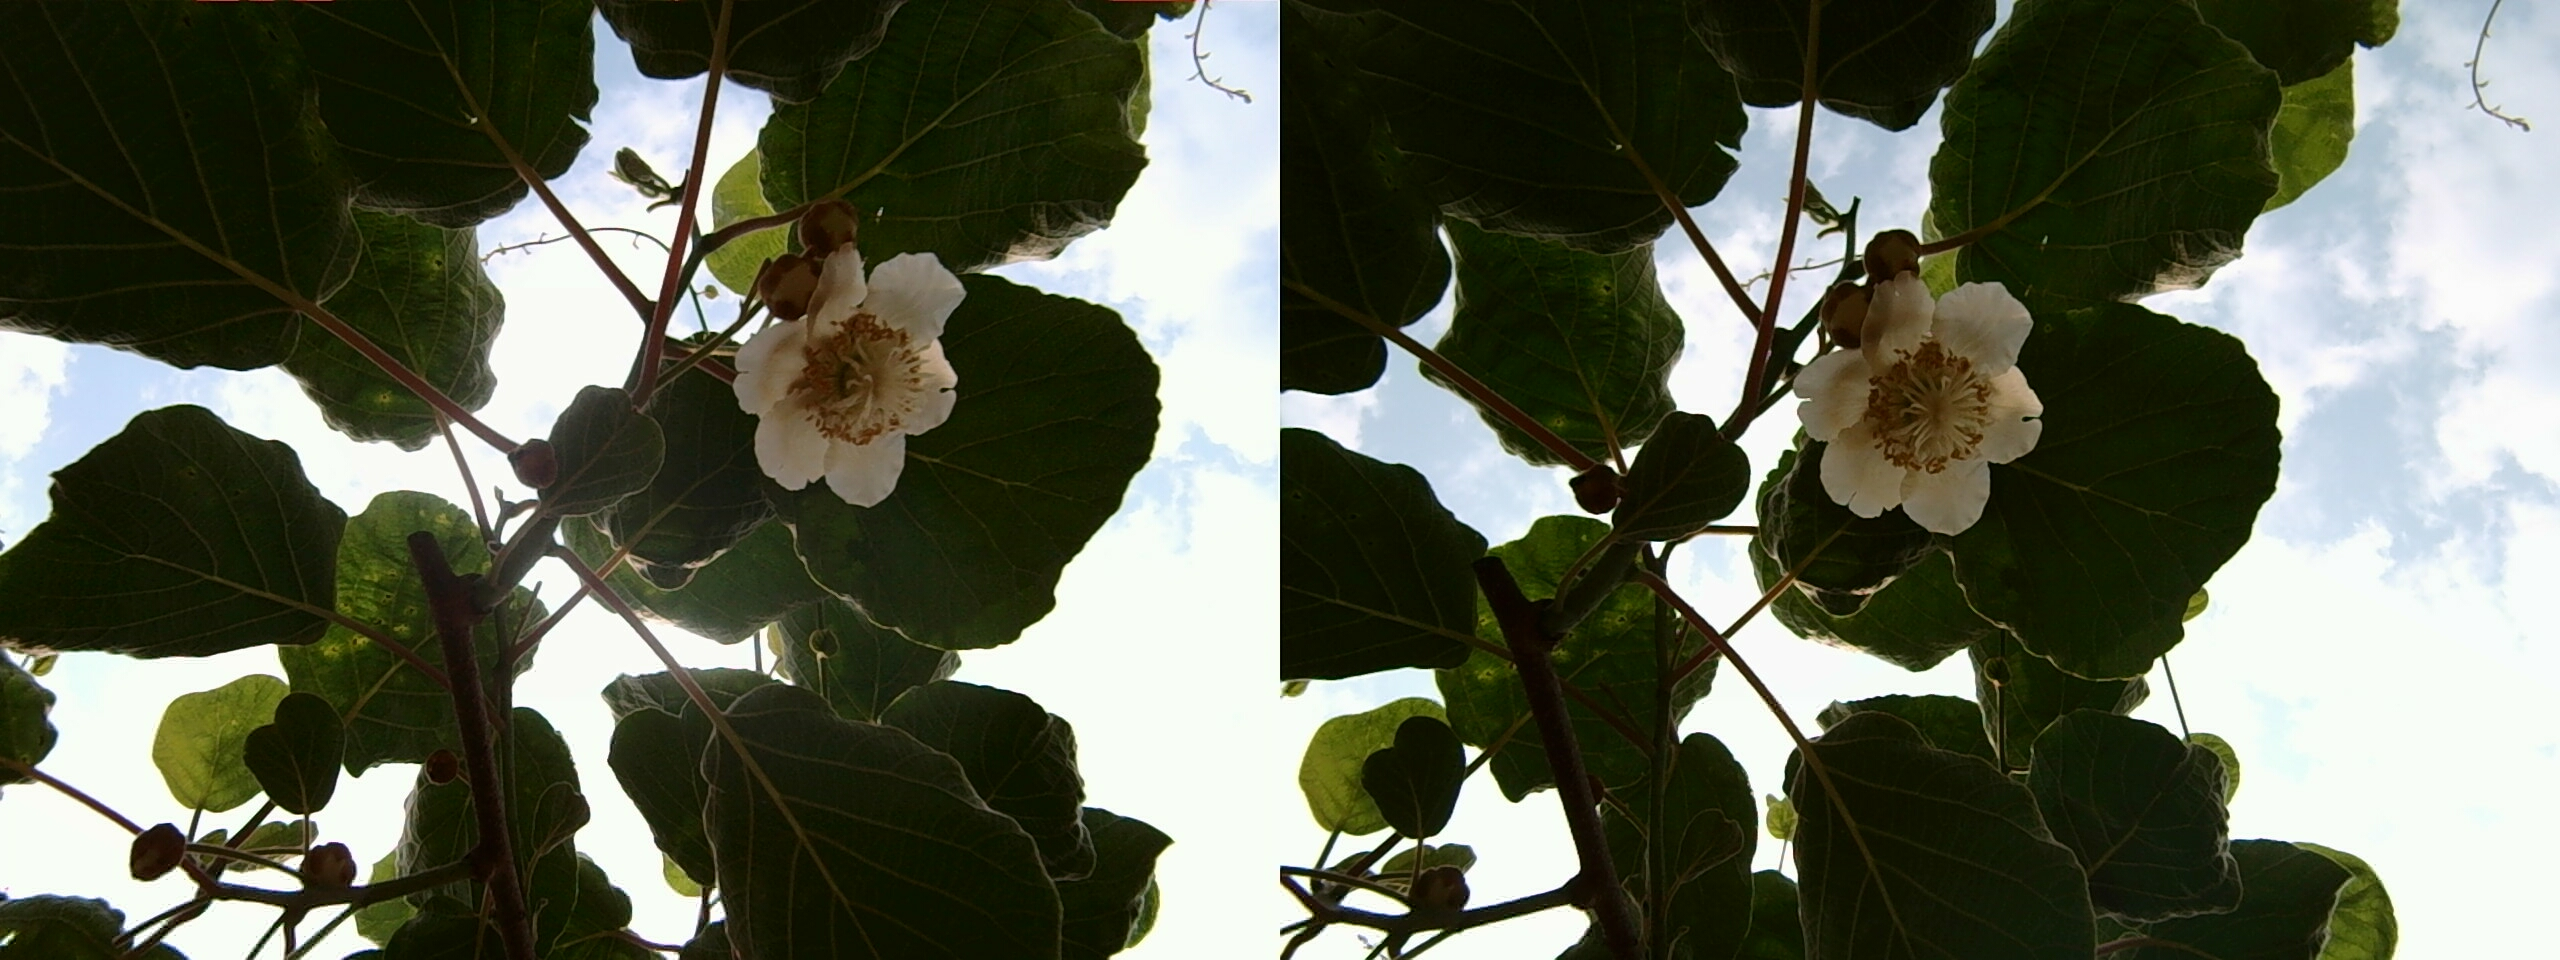flower: (1789, 251, 2042, 532), (723, 230, 970, 501)
